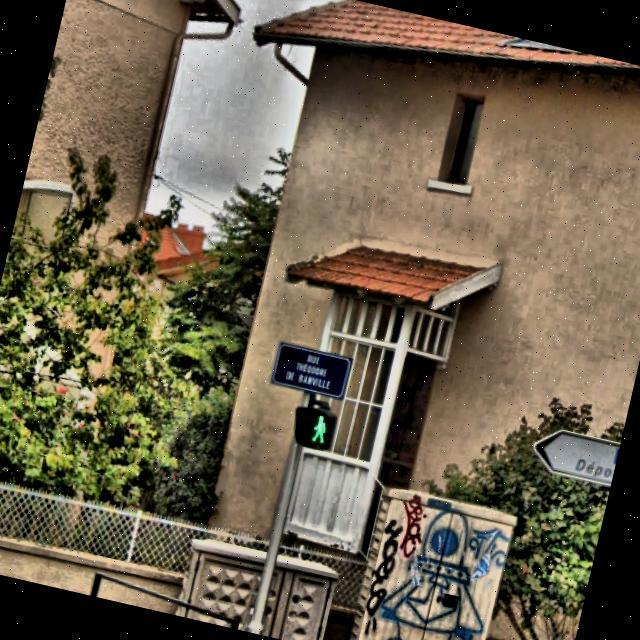green_light: (305, 408, 331, 444)
